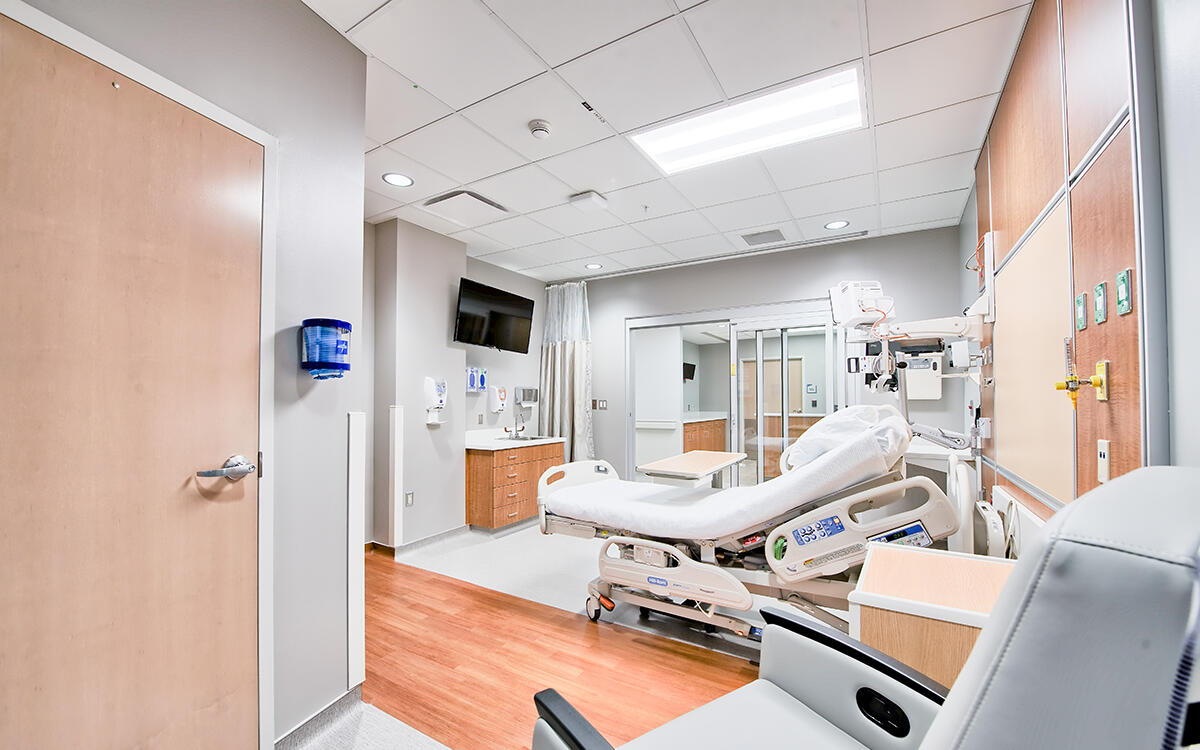TV: (454, 274, 536, 356), (681, 362, 702, 380)
bedrail: (763, 476, 960, 586), (599, 535, 754, 609), (778, 404, 911, 478)
bedside_table: (846, 542, 1045, 750)
chair: (532, 467, 1196, 750)
counter: (469, 438, 571, 523), (760, 413, 824, 459), (678, 403, 730, 451), (470, 431, 566, 446)
curtain: (539, 282, 593, 470)
dispenser: (299, 320, 351, 379), (424, 378, 450, 431), (465, 366, 489, 393), (489, 387, 508, 413)
door_handle: (197, 457, 255, 484), (791, 406, 802, 413)
faucet: (504, 413, 533, 438)
handle: (507, 454, 521, 460), (507, 473, 519, 478), (508, 491, 519, 496), (508, 514, 520, 518)
hospital_bed: (538, 404, 972, 667)
overbed_table: (634, 451, 746, 631)
